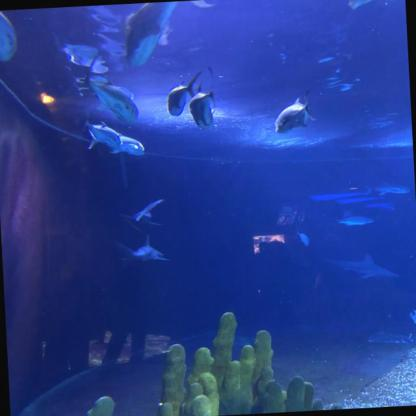fish: (119, 0, 218, 70), (86, 75, 140, 127), (165, 67, 207, 117), (121, 193, 173, 230), (272, 94, 320, 134), (83, 116, 122, 151), (188, 83, 217, 130), (0, 10, 21, 62), (108, 131, 145, 159), (330, 213, 378, 228), (347, 0, 402, 9), (411, 310, 415, 330)
shark: (323, 249, 401, 283), (115, 232, 172, 267), (364, 180, 411, 198)
stingray: (368, 330, 413, 346)
